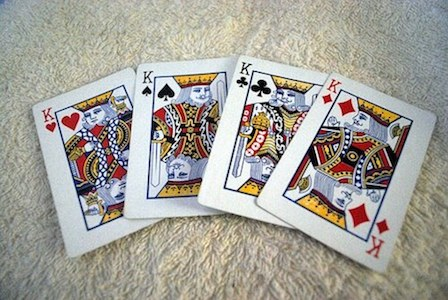KingOfClubs: (218, 55, 315, 234)
KingOfDiamonds: (296, 73, 439, 274)
KingOfHearts: (28, 66, 141, 259)
KingOfSpades: (125, 55, 228, 223)
